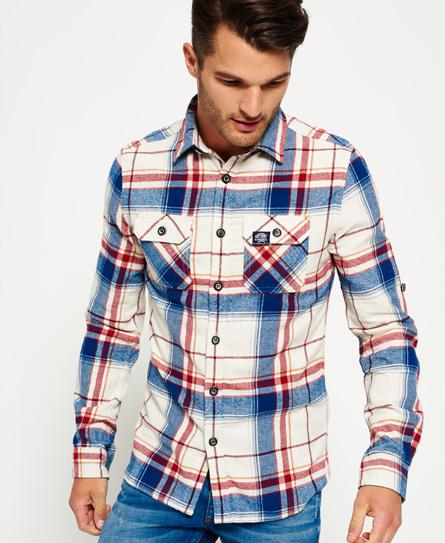teeshirt: (72, 91, 426, 501)
